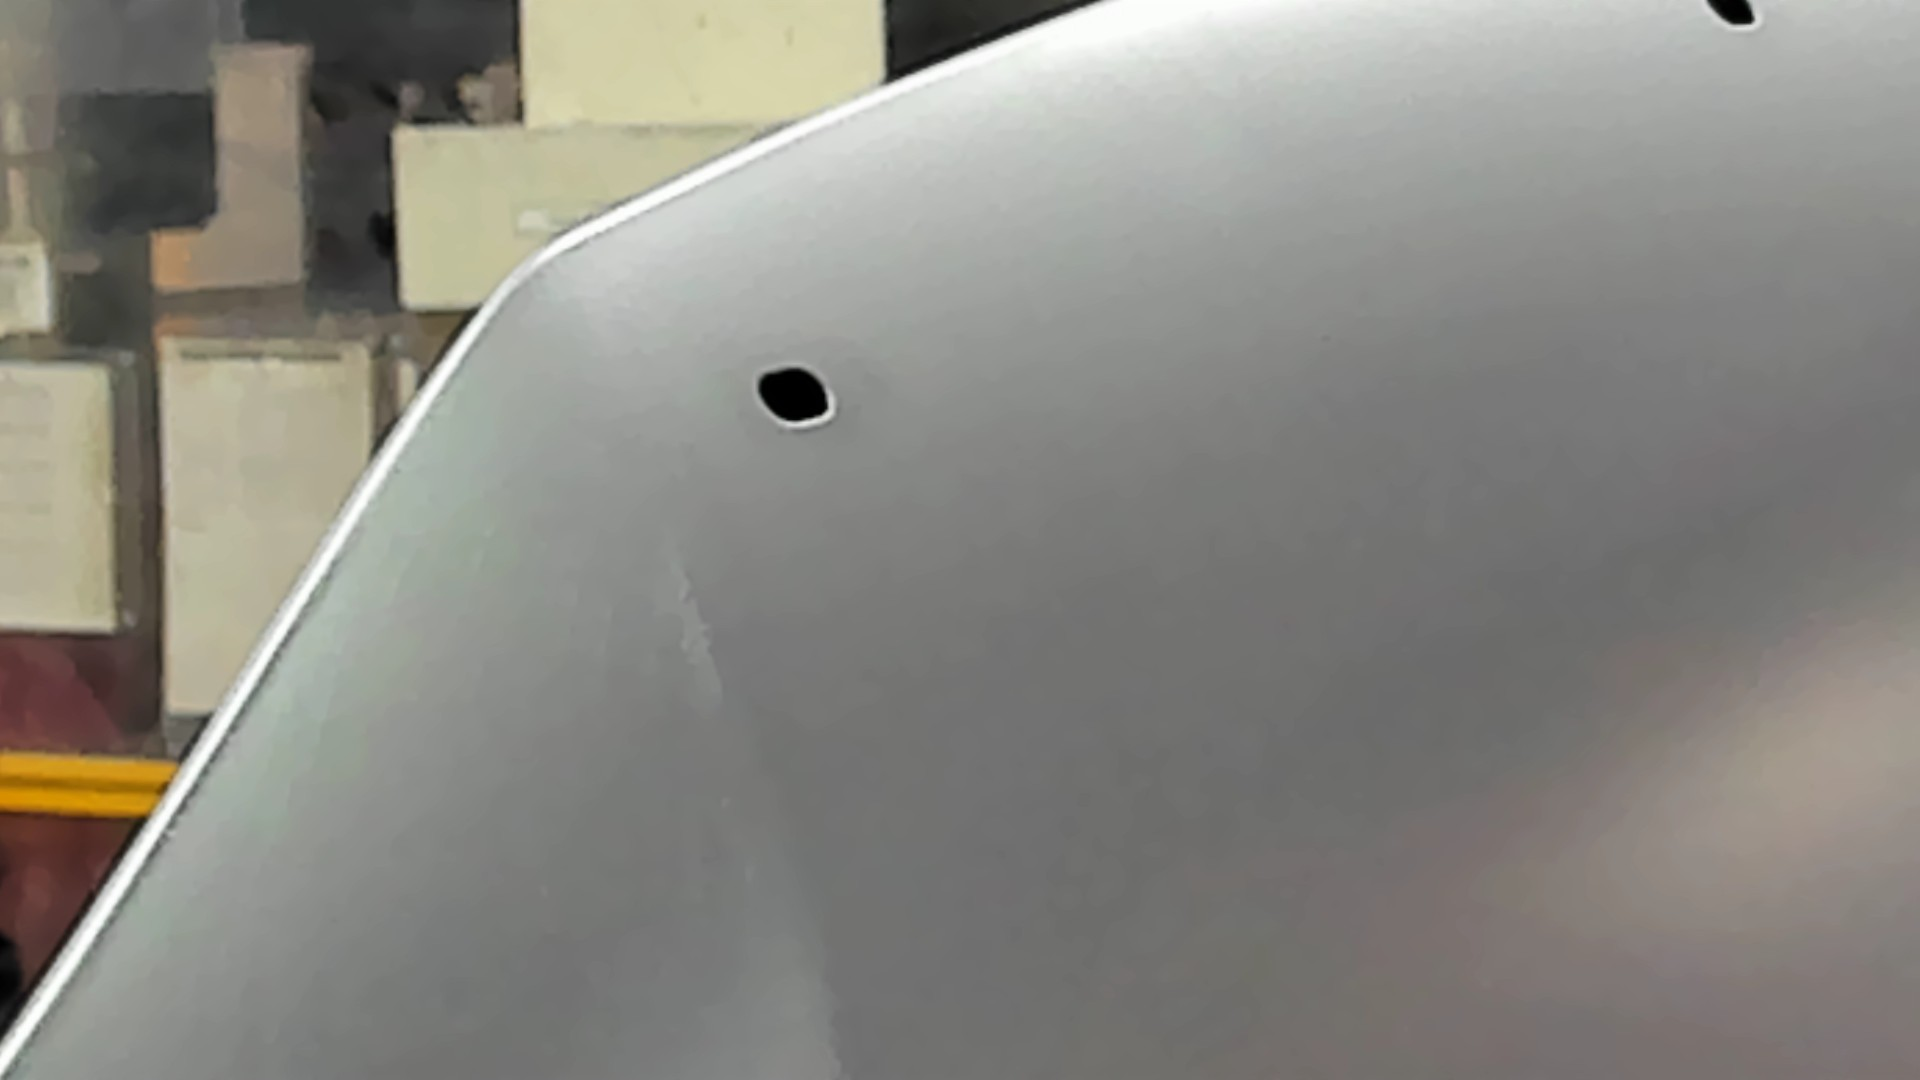amorfo: (756, 365, 839, 433), (1709, 1, 1771, 36)
capo: (931, 119, 1920, 1080)
